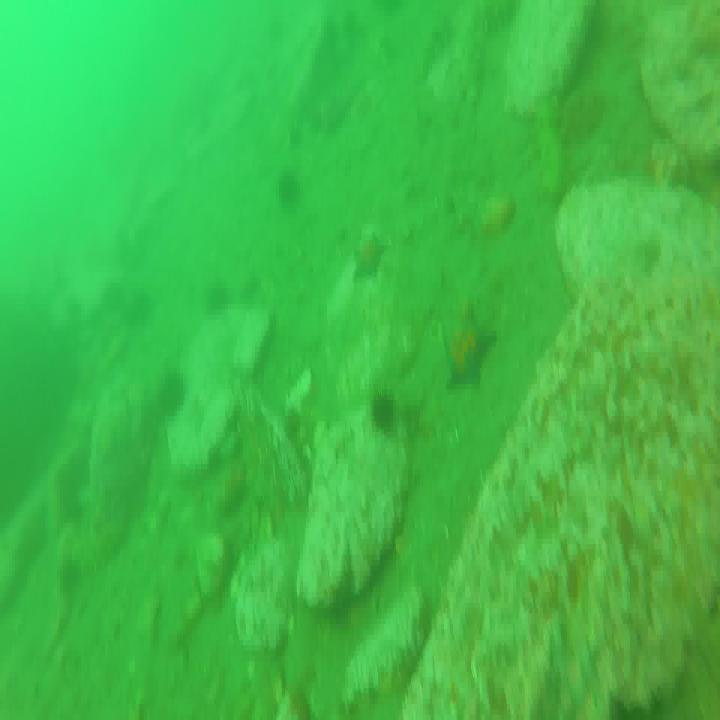echinus: (154, 363, 184, 416), (373, 386, 395, 429), (279, 169, 302, 208), (206, 281, 228, 313)
starfish: (443, 305, 497, 389), (354, 230, 384, 283)
